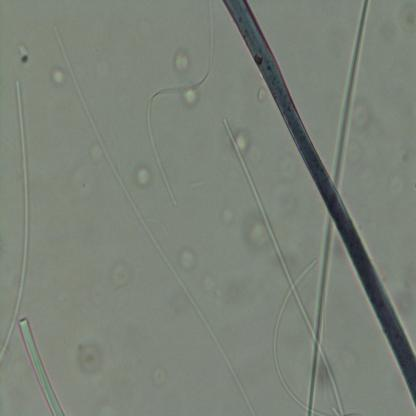Background material: (77, 335, 106, 376), (245, 215, 272, 249), (352, 101, 374, 133), (109, 260, 131, 288), (171, 47, 191, 75), (134, 161, 154, 188), (180, 247, 199, 271), (87, 141, 105, 165), (151, 365, 167, 390), (181, 89, 203, 107), (234, 129, 250, 152), (50, 66, 67, 87), (17, 41, 30, 63)
Glass filter fibre: (54, 27, 254, 414), (222, 119, 345, 415), (146, 0, 215, 208), (0, 79, 30, 362), (272, 258, 320, 415), (332, 0, 370, 185), (306, 217, 336, 413), (18, 319, 67, 415)
Microfibre: (222, 0, 416, 405)
